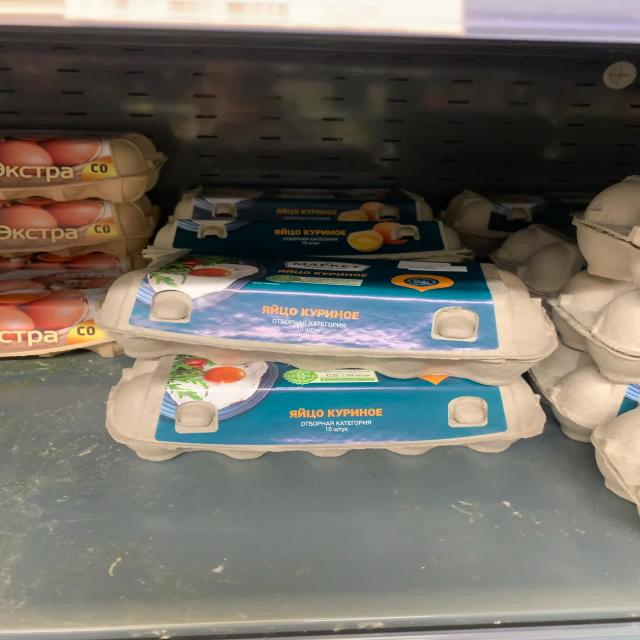egg box: (100, 253, 566, 382), (103, 355, 544, 461), (138, 217, 476, 266)
